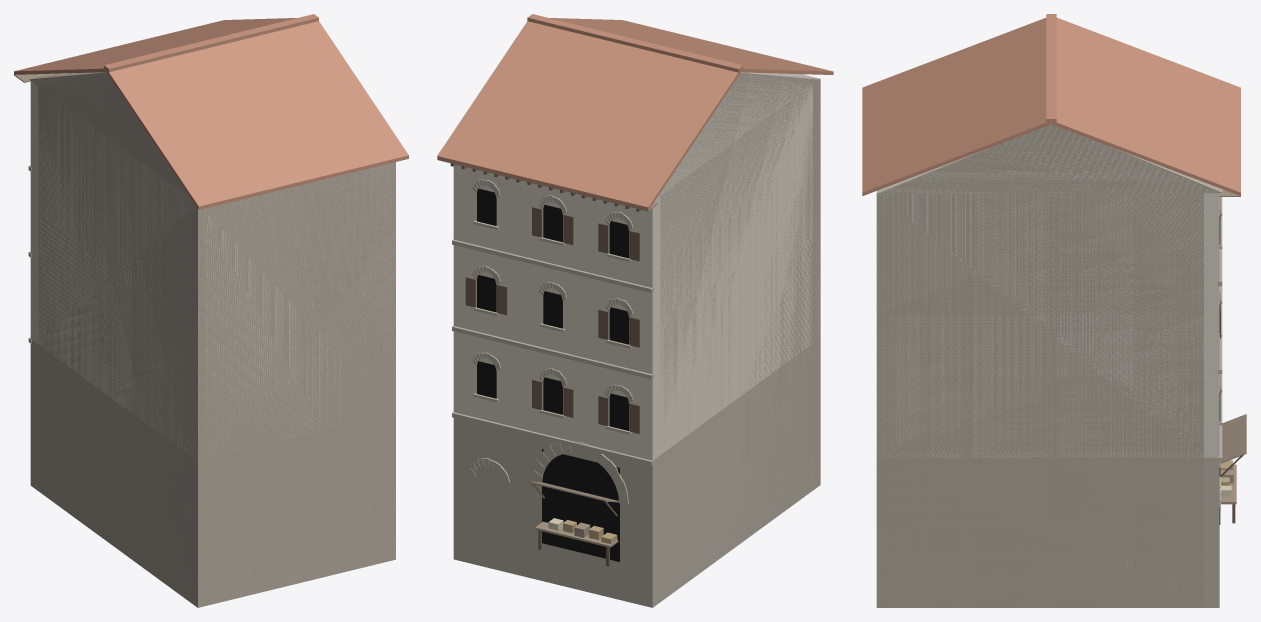
Rendered from casa-82-3-intonaco.glb.
The picture shows the model from 3 angles, left to right: view 1: azimuth 30°, elevation 25°; view 2: azimuth 150°, elevation 25°; view 3: azimuth 270°, elevation 25°; orthographic projection. The views are drawn at different scales.
Visible parts, largest first — view 1: vicino, lontano; view 2: vicino, lontano, aperta; view 3: vicino, lontano, aperta.
Part boxes in pixels (x1,y1,x2,y2): vicino: [14, 14, 408, 607]; lontano: [14, 69, 408, 606]; vicino: [437, 14, 833, 607]; lontano: [437, 69, 833, 607]; aperta: [529, 481, 619, 566]; vicino: [862, 14, 1240, 607]; lontano: [862, 122, 1240, 607]; aperta: [1220, 414, 1246, 523].
Size of the model in its own units: 8.7 by 18.98 by 13.45.
